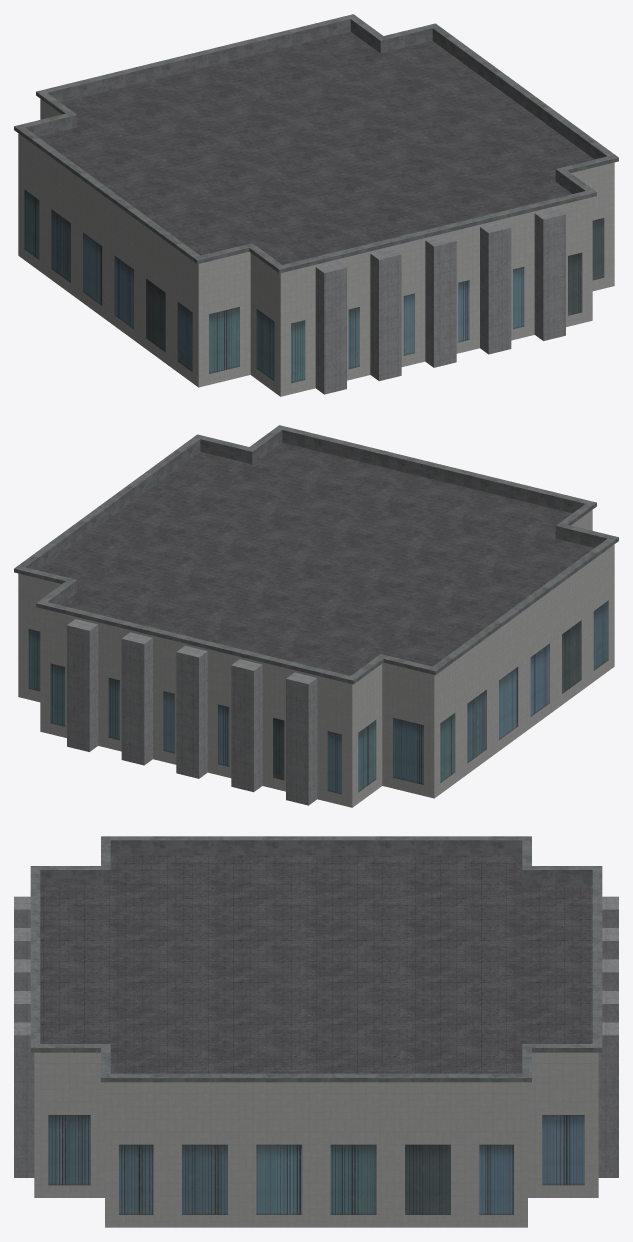
The model's file is jctBld50C_top_low.fbx.
3 views of the same model, one above another, from view 1: azimuth 30°, elevation 25°; view 2: azimuth 150°, elevation 25°; view 3: azimuth 270°, elevation 25° (orthographic). The views are drawn at different scales.
Parts seen in each view (by area): view 1: jctBld50C_top_low; view 2: jctBld50C_top_low; view 3: jctBld50C_top_low.
Boxes of the visible parts, x1,y1,x2,y2 form: jctBld50C_top_low: (14, 14, 618, 396); jctBld50C_top_low: (14, 425, 618, 807); jctBld50C_top_low: (14, 836, 618, 1227).
Size of the model in its own units: 4054 by 1185 by 4288.
